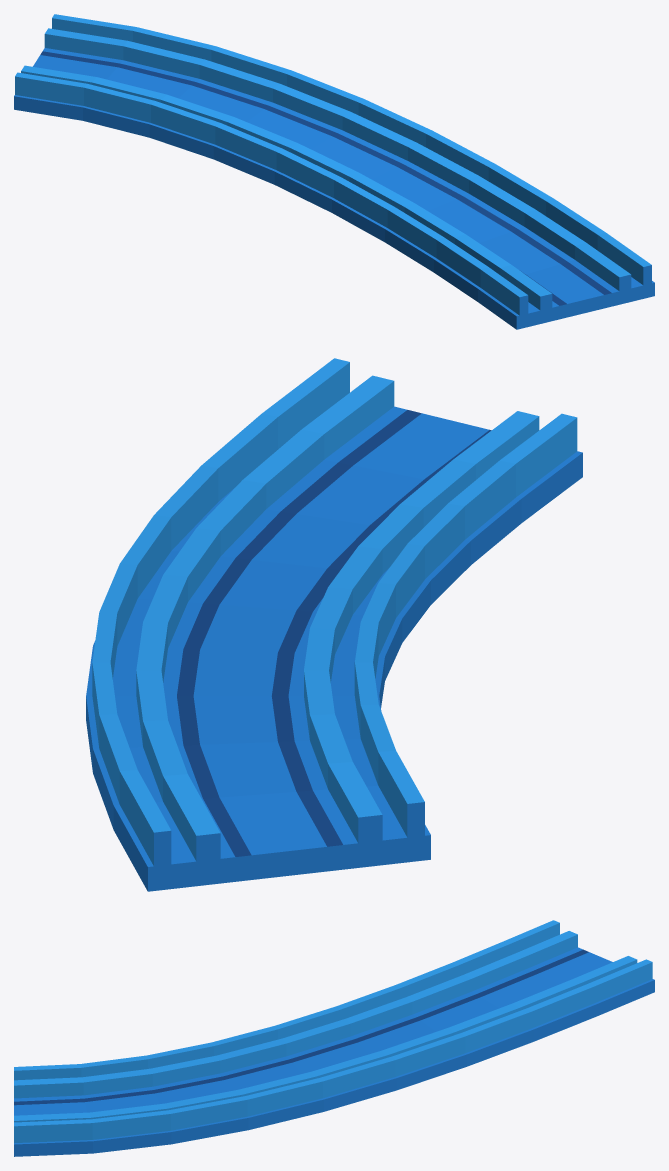
Rendered from Track_Slope_Curve_Left_Up.fbx.
3 views of the same model, one above another, from view 1: azimuth 30°, elevation 25°; view 2: azimuth 150°, elevation 25°; view 3: azimuth 270°, elevation 25° (orthographic). The views are drawn at different scales.
Visible parts, largest first — view 1: Molded blue rail; view 2: Molded blue rail; view 3: Molded blue rail.
Boxes of the visible parts, <box> form: Molded blue rail: <box>14,14,654,329</box>; Molded blue rail: <box>86,358,582,891</box>; Molded blue rail: <box>14,920,654,1156</box>.
Bounding box in the file's own units: 266 × 64.88 × 462.
